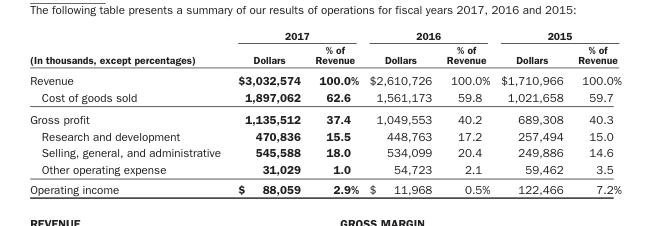table: (29, 29, 620, 195)
table column: (29, 29, 228, 195), (228, 29, 307, 195), (363, 29, 438, 195), (494, 29, 569, 195), (307, 29, 363, 195), (438, 29, 494, 195), (569, 29, 620, 195)
table column header: (29, 29, 620, 69)
table row: (29, 42, 620, 69), (29, 107, 620, 127), (29, 69, 620, 88), (29, 88, 620, 107), (29, 160, 620, 178), (29, 127, 620, 144), (29, 178, 620, 195), (29, 144, 620, 160), (29, 29, 620, 42)
table spanning cell: (29, 29, 228, 69), (228, 29, 363, 42), (363, 29, 494, 42), (494, 29, 620, 42)
